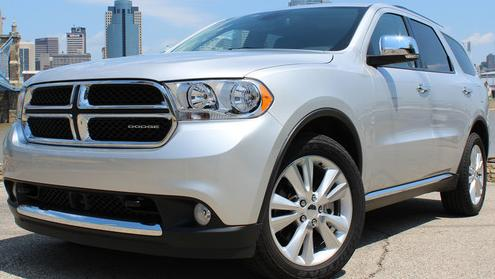front_view: (14, 74, 288, 259)
headlight: (152, 72, 288, 136)
side_glass: (359, 2, 457, 77)
